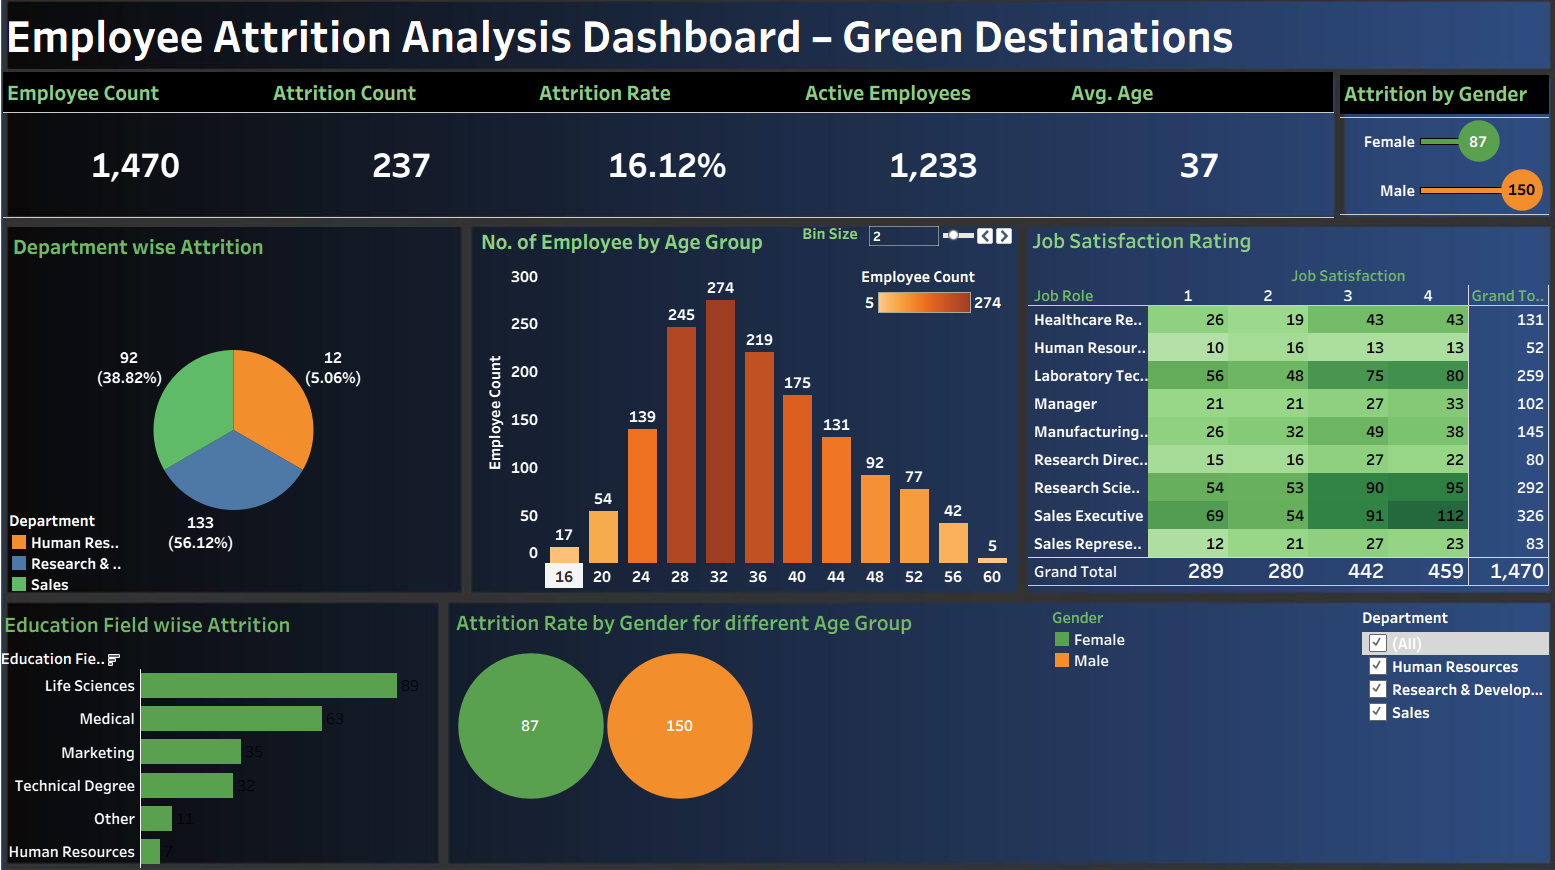

What the dashboard file says about the page in this screenshot:
{"tool":"tableau","page":{"name":"Employee Attrition Analysis Dashboard – Green Destinations","canvas":[1580,900],"ordinal":1},"visuals":[{"type":"image","param":"Image/HR background.pptx (1).jpg","box":[8,8,1564,884]},{"type":"text","box":[13,15,1552,72]},{"type":"worksheet","title":"KPI","mark":"Automatic","box":[14,89,1331,146]},{"type":"worksheet","title":"Attrition by Gender","mark":"Circle","rows":["Gender"],"cols":["Calculation_1480839873835282432","Calculation_1480839873835282432"],"box":[1351,92,209,140]},{"type":"worksheet","title":"Job Satisfaction Rating","mark":"Square","rows":["JobRole"],"cols":["JobSatisfaction"],"box":[1039,239,526,365]},{"type":"worksheet","title":"No. of Employee by Age Group","mark":"Automatic","rows":["EmployeeCount"],"cols":["Age (bin)"],"box":[488,240,535,365]},{"type":"parameter","param":"[Parameters].[Parameter 1]","box":[805,240,221,37]},{"type":"worksheet","title":"Department wise Attrition","mark":"Pie","box":[20,245,449,362]},{"type":"legend","title":"No. of Employee by Age Group","param":"[federated.1pa1rti1lbdtxo1edt3b10emx1sa].[sum:EmployeeCount:qk]","box":[872,283,145,55]},{"type":"legend","title":"Department wise Attrition","param":"[federated.1pa1rti1lbdtxo1edt3b10emx1sa].[none:Department:nk]","box":[20,527,118,85]},{"type":"worksheet","title":"Attrition Rate by Gender for different Age Group","mark":"Circle","box":[463,621,1103,267]},{"type":"worksheet","title":"Education Field wiise Attrition","mark":"Automatic","rows":["EducationField"],"cols":["Calculation_1480839873835282432"],"box":[11,623,438,262]},{"type":"legend","title":"Attrition Rate by Gender for different Age Group","param":"[federated.1pa1rti1lbdtxo1edt3b10emx1sa].[none:Gender:nk]","box":[1063,624,500,257]},{"type":"filter","title":"Department wise Attrition","param":"[federated.1pa1rti1lbdtxo1edt3b10emx1sa].[none:Department:nk]","box":[1373,624,187,172]}]}

Visuals, with their boxes in screenshot pixels (x1, y1, x2, y2), scaled from the page's 1580x900 canvas onto the 1555x870 screenshot:
image: (left=8, top=8, right=1547, bottom=862)
text: (left=13, top=14, right=1540, bottom=84)
"KPI" worksheet: (left=14, top=86, right=1324, bottom=227)
"Attrition by Gender" worksheet (Circle marks): (left=1330, top=89, right=1535, bottom=224)
"Job Satisfaction Rating" worksheet (Square marks): (left=1023, top=231, right=1540, bottom=584)
"No. of Employee by Age Group" worksheet: (left=480, top=232, right=1007, bottom=585)
parameter: (left=792, top=232, right=1010, bottom=268)
"Department wise Attrition" worksheet (Pie marks): (left=20, top=237, right=462, bottom=587)
"No. of Employee by Age Group" legend: (left=858, top=274, right=1001, bottom=327)
"Department wise Attrition" legend: (left=20, top=509, right=136, bottom=592)
"Attrition Rate by Gender for different Age Group" worksheet (Circle marks): (left=456, top=600, right=1541, bottom=858)
"Education Field wiise Attrition" worksheet: (left=11, top=602, right=442, bottom=856)
"Attrition Rate by Gender for different Age Group" legend: (left=1046, top=603, right=1538, bottom=852)
"Department wise Attrition" filter: (left=1351, top=603, right=1535, bottom=769)
